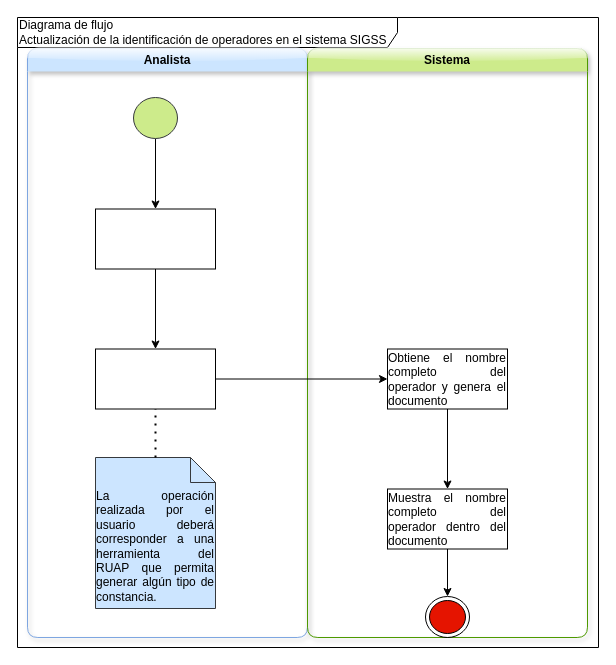
This 616x665 diagram has some shape labels left out. The shapes that lost their labels are listed below. From the top down, each one's centre as x and y in pixels, then its label:
(x=155, y=117): Inicio
(x=155, y=238): Accede a herramienta RUAP
(x=155, y=378): Realiza la operación correspondiente.
